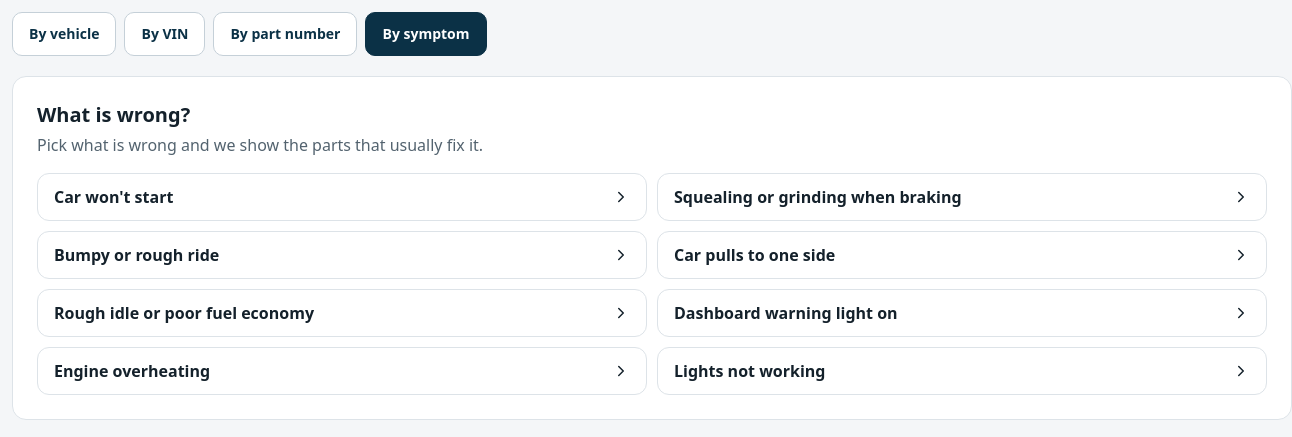
Test: find a part: the tabs › opens on the tab it is told to, and switching tabs switches the panel
The image size is (1292, 437).
expect the heading "What is wrong?" is shown: met, box 37,101 -> 190,128
Click the tab "By VIN" at (165, 34), box 124,12 -> 206,56
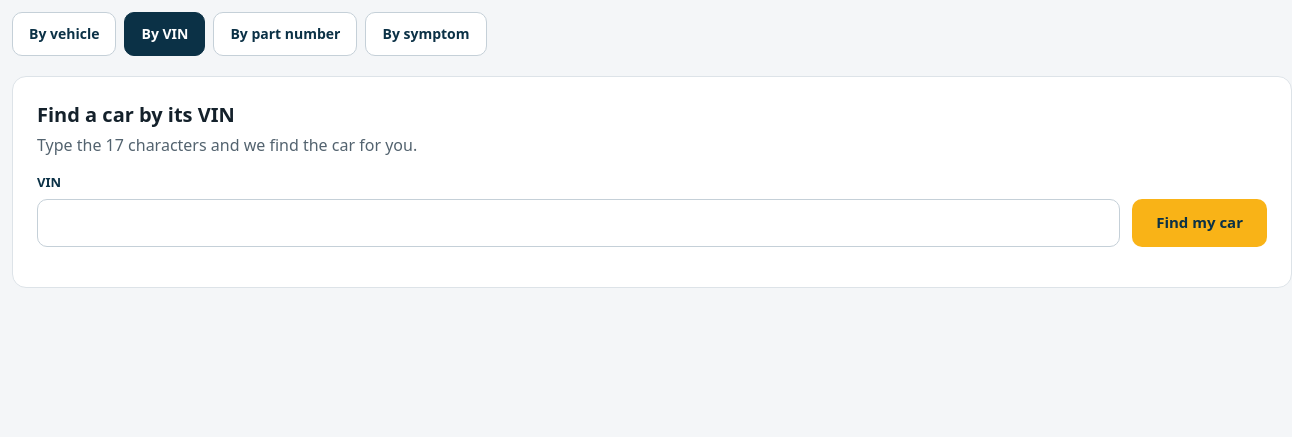
expect the heading "Find a car by its VIN" is shown: met, box 37,101 -> 235,128
expect the heading "What is wrong?" is gone: met
